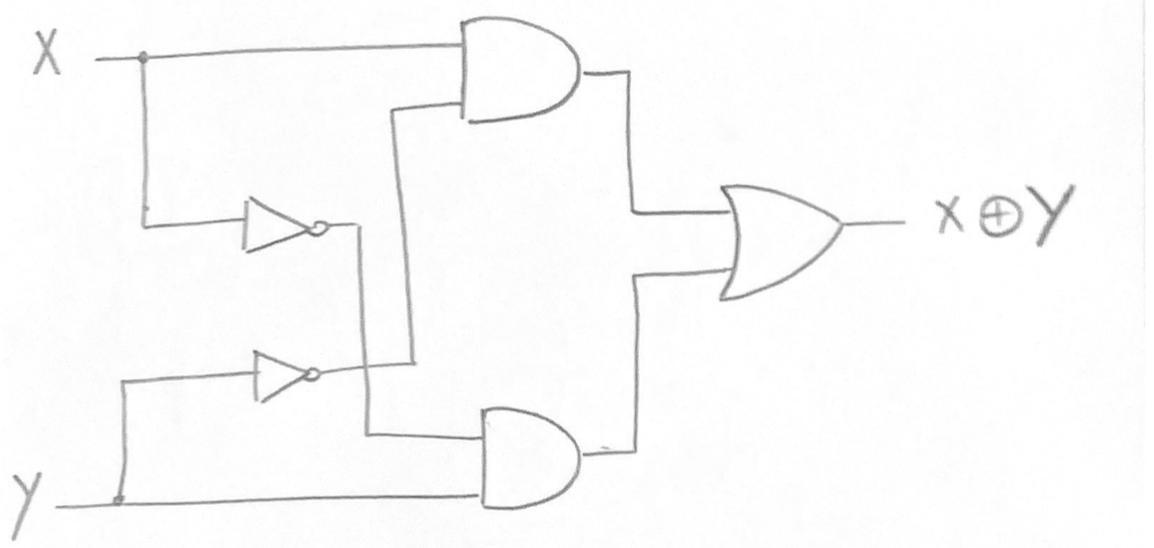AND: (450, 391, 598, 520), (447, 10, 593, 135)
NOT: (222, 186, 342, 258), (241, 326, 331, 409)
OR: (706, 168, 851, 319)
